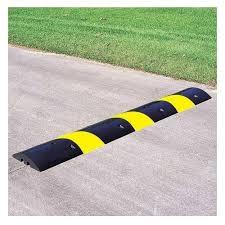Bump: (12, 87, 212, 172)
